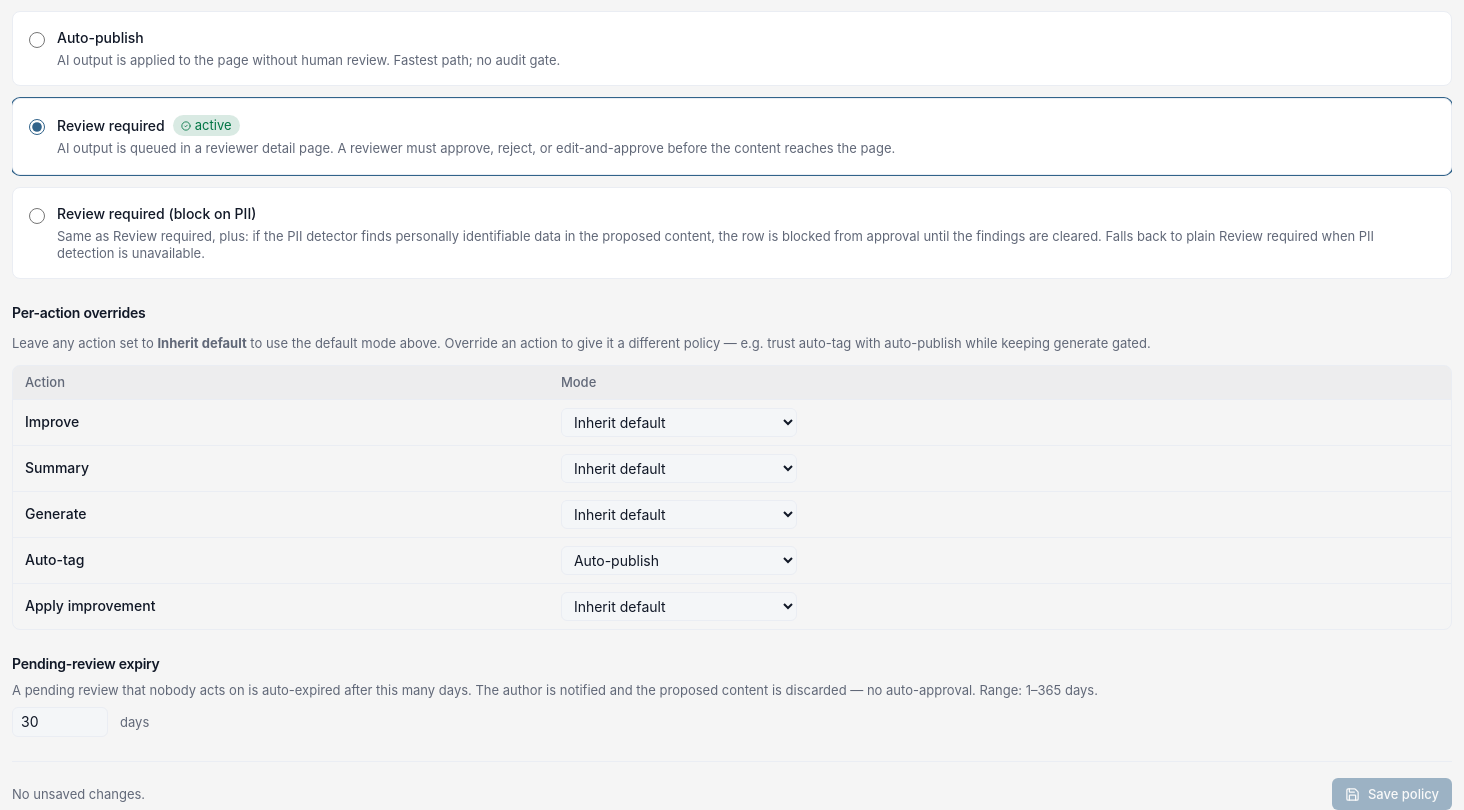
Scenario: AiReviewPolicyTab › clamps expire_after_days into the 1..365 range
(page scrolled)
Step 1. Replace the text in the number field with test id "ai-review-policy-expire-days-input" with "999" → (60, 722), box x1=12 y1=707 x2=108 y2=737
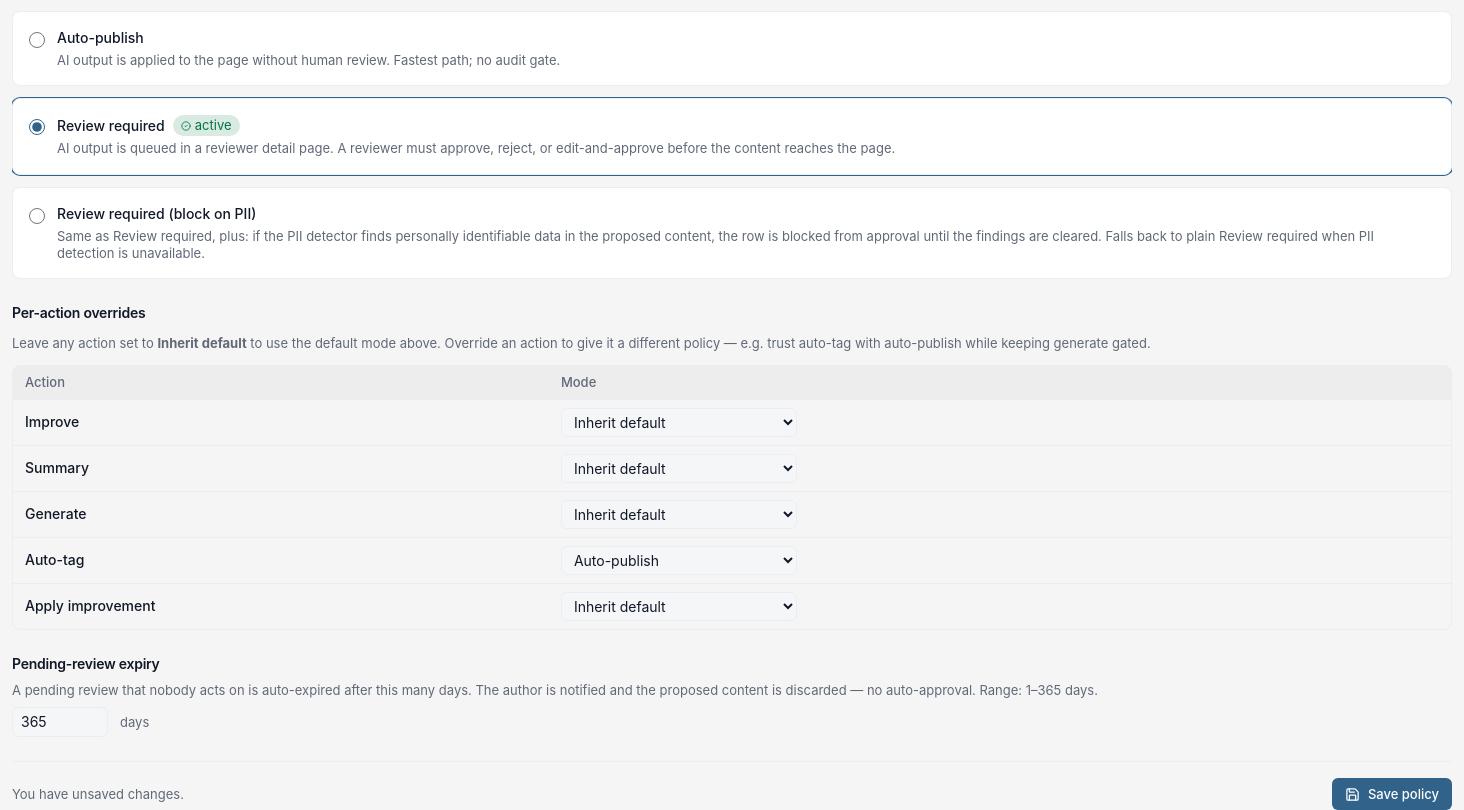
Check: the number field with test id "ai-review-policy-expire-days-input" holds "365"
Step 2. Replace the text in the number field with test id "ai-review-policy-expire-days-input" with "0" → (60, 722), box x1=12 y1=707 x2=108 y2=737
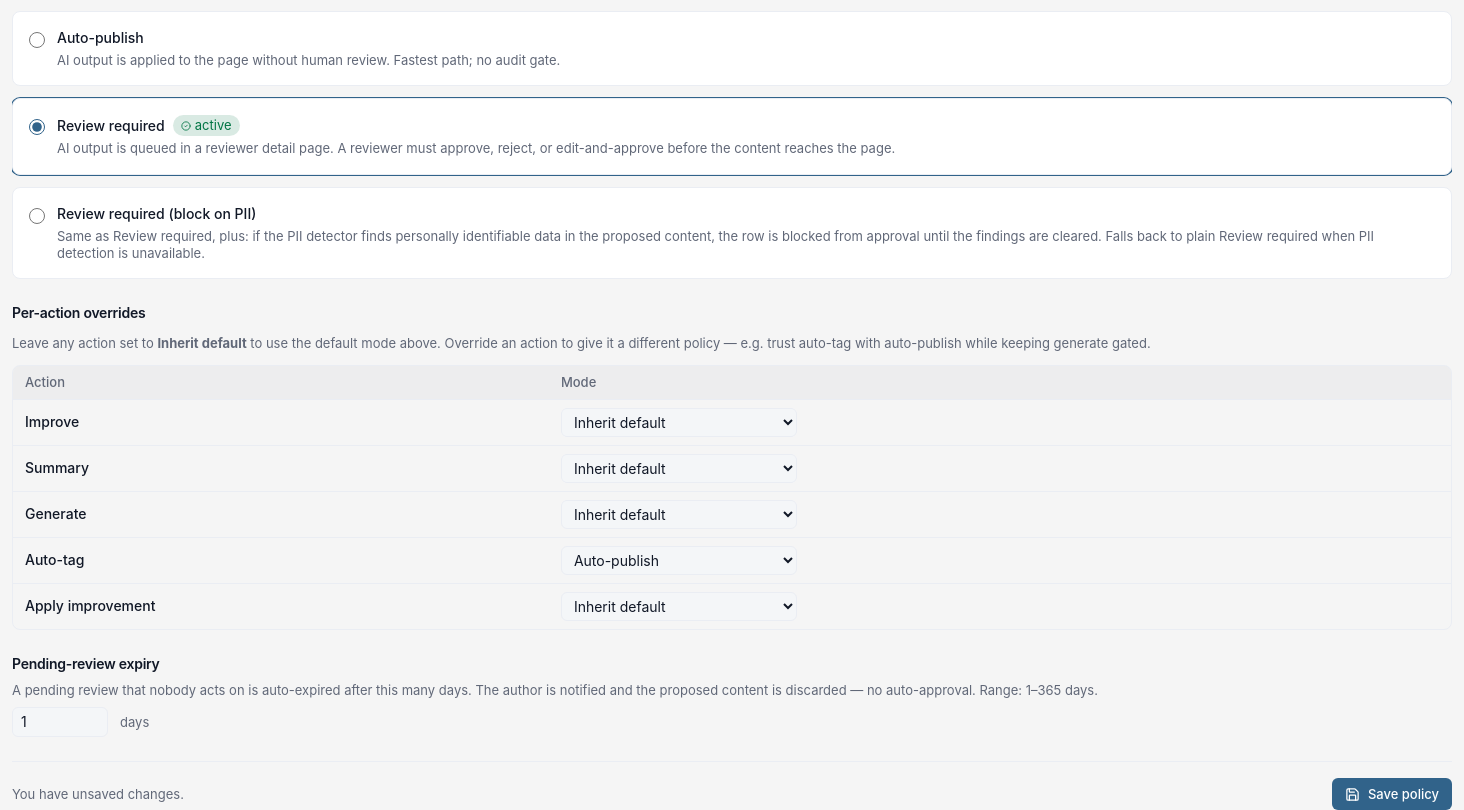
Check: the number field with test id "ai-review-policy-expire-days-input" holds "1", box x1=12 y1=707 x2=108 y2=737
